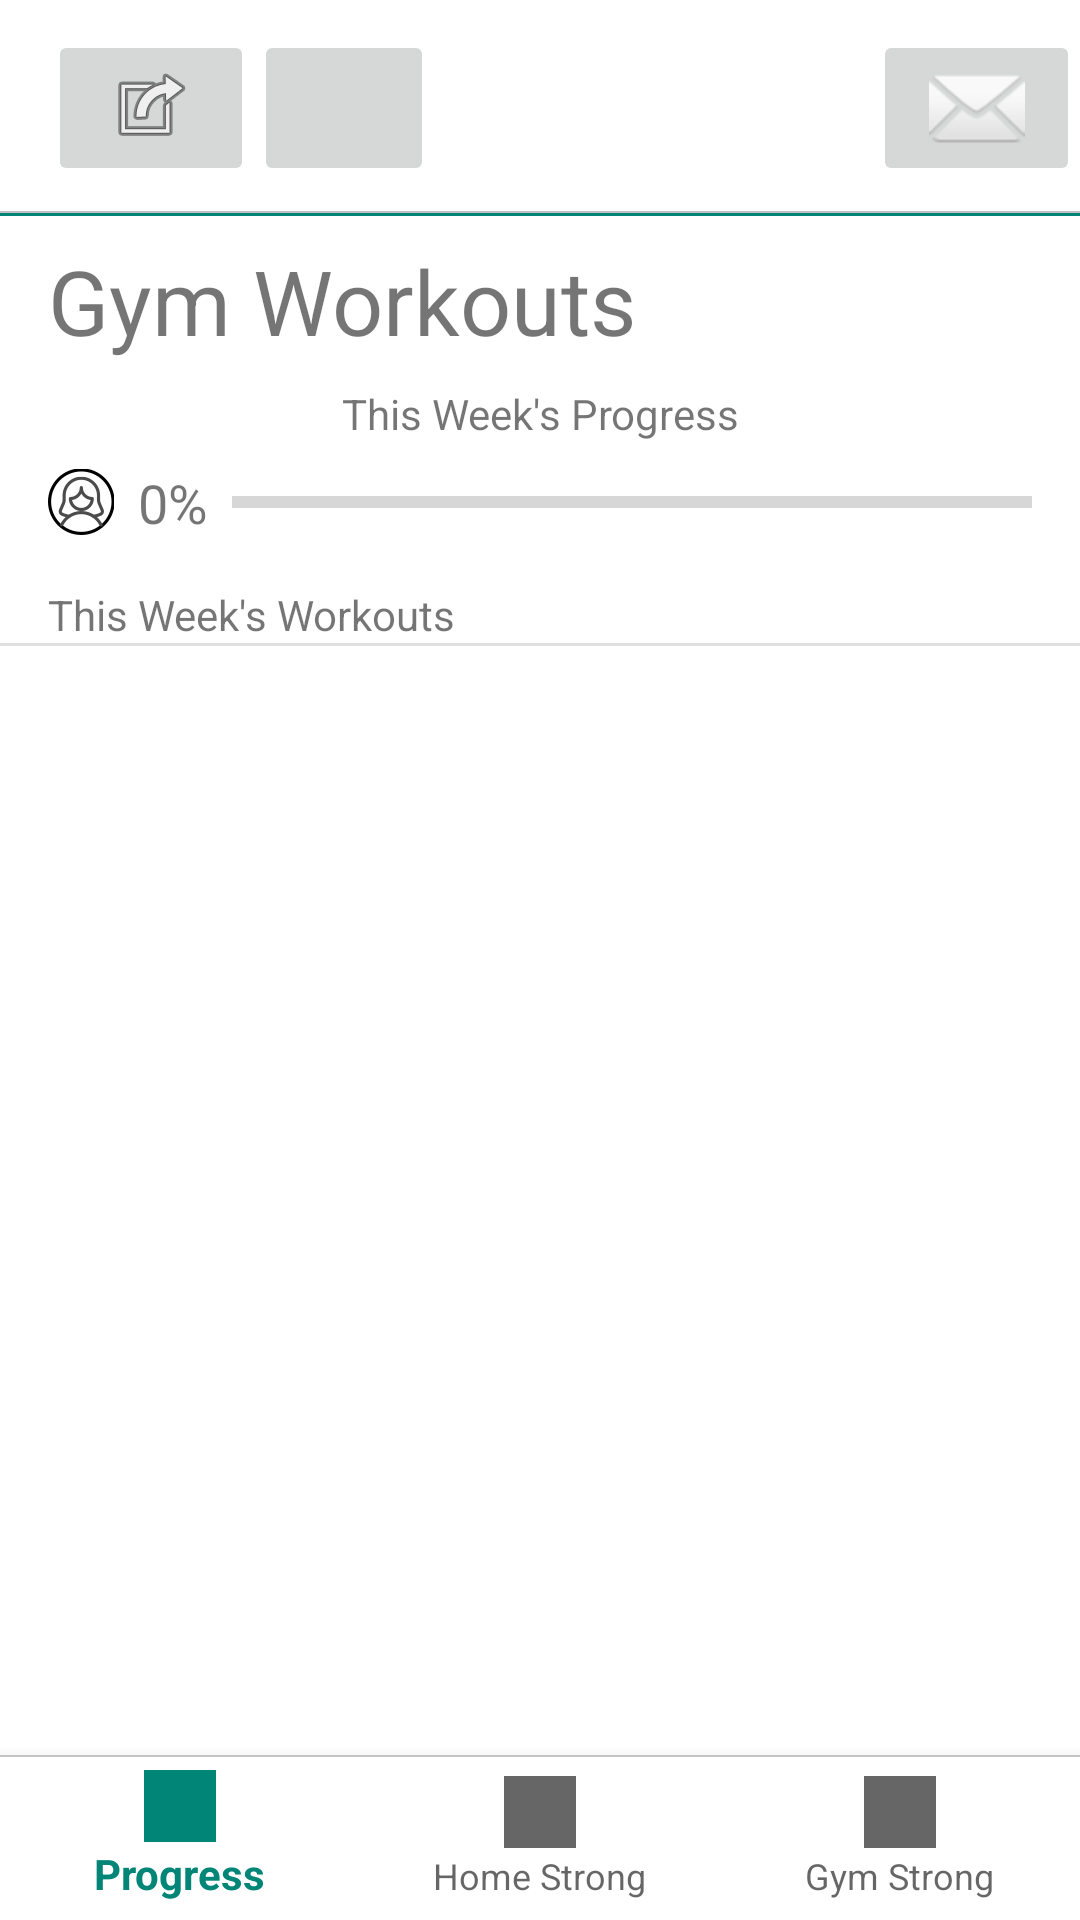

Where to tap for icons on this 1080px×1920px app screen, as [x,y]:
email: [976,108]
set as: [151,108]
